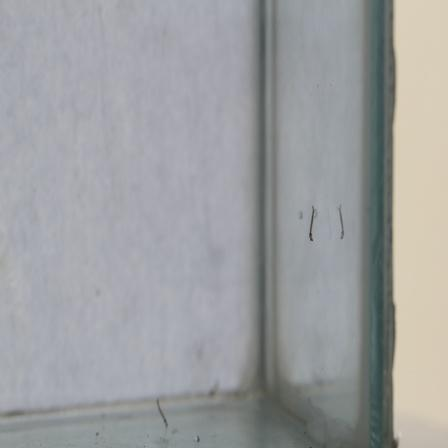Jentik-Nyamuk: (152, 397, 172, 433), (305, 201, 318, 245)
